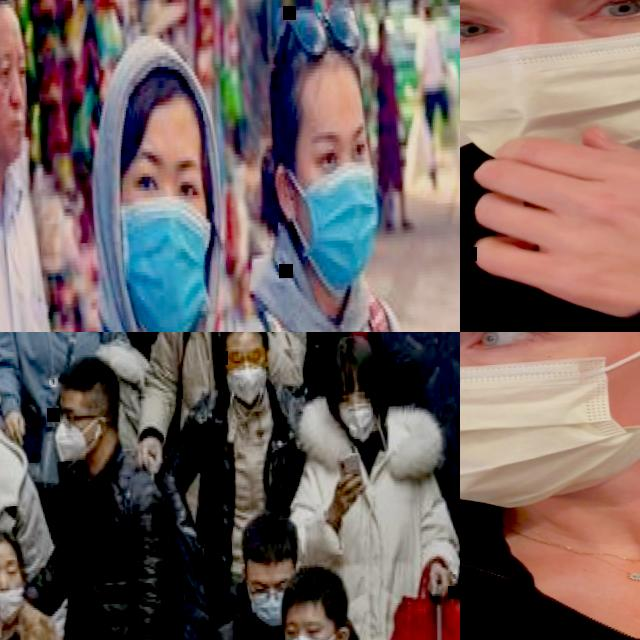Mask: (460, 332, 640, 516), (460, 0, 640, 179), (116, 194, 218, 332), (300, 164, 382, 300), (227, 364, 270, 408), (55, 422, 93, 470), (247, 586, 287, 628), (341, 407, 376, 444), (0, 589, 27, 622)
NO-Hardhat: (98, 33, 206, 146), (264, 17, 364, 121), (283, 565, 356, 619), (238, 510, 301, 570), (321, 332, 380, 392), (57, 353, 122, 400), (0, 0, 18, 42), (215, 332, 269, 346), (0, 525, 14, 559), (422, 1, 434, 16), (377, 19, 387, 34)
NO-Mask: (0, 93, 25, 162)
NO-Safety Vest: (460, 167, 640, 332), (460, 481, 640, 640), (312, 445, 436, 640), (61, 465, 160, 640), (375, 332, 460, 524), (0, 445, 20, 611), (307, 332, 375, 364), (373, 51, 400, 130), (417, 23, 446, 86), (218, 616, 287, 640), (0, 624, 58, 640)
Person: (197, 15, 443, 332), (0, 28, 242, 332), (460, 0, 640, 332), (460, 332, 640, 640), (282, 332, 460, 640), (10, 344, 186, 640), (155, 332, 313, 615), (139, 332, 315, 518), (365, 332, 460, 640), (0, 0, 74, 332), (0, 332, 140, 486), (0, 344, 68, 640), (228, 561, 432, 640), (194, 510, 313, 640), (0, 520, 96, 640), (369, 18, 418, 236), (294, 332, 421, 409), (411, 1, 455, 200), (0, 560, 94, 640)
